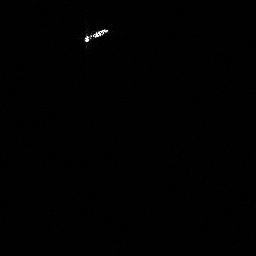ship: (81, 25, 111, 45)
